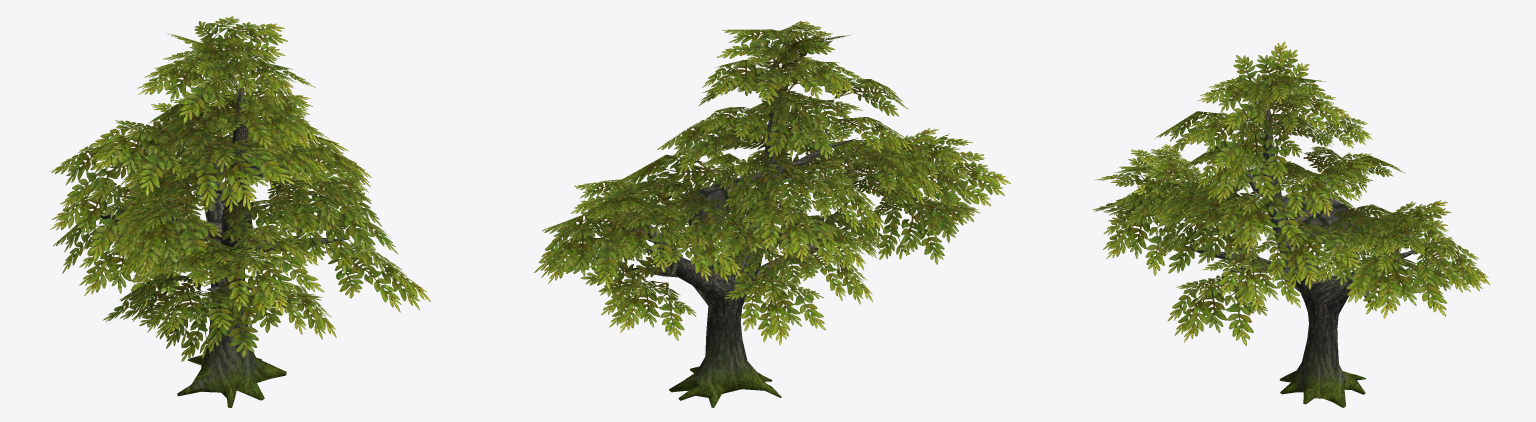
The model's file is cj_luoyang_shu01_53_40_3279out.fbx.
3 views of the same model, side by side, from view 1: azimuth 30°, elevation 25°; view 2: azimuth 150°, elevation 25°; view 3: azimuth 270°, elevation 25° (orthographic). The views are drawn at different scales.
Visible parts, largest first — view 1: cj_luoyang_shu01; view 2: cj_luoyang_shu01; view 3: cj_luoyang_shu01.
Boxes of the visible parts, <box> form: cj_luoyang_shu01: <box>50,16,430,407</box>; cj_luoyang_shu01: <box>534,21,1010,407</box>; cj_luoyang_shu01: <box>1092,41,1489,407</box>.
Size of the model in its own units: 7.93 by 7.6 by 9.35.
